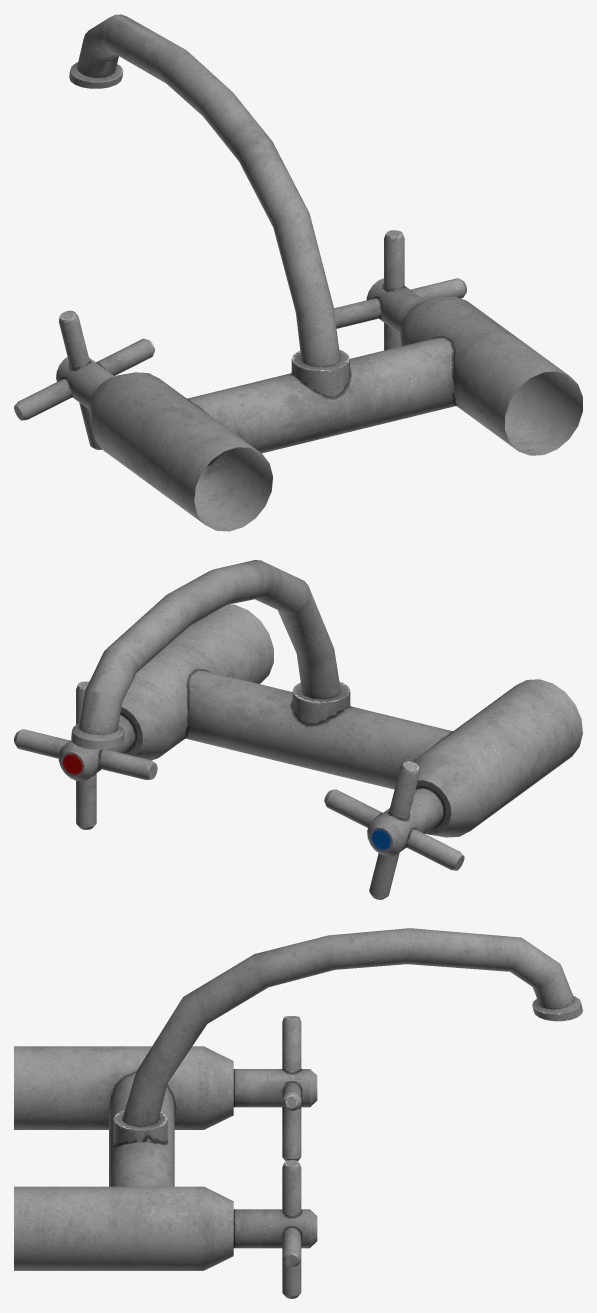
File: Tap_AA.fbx
3 views of the same model, one above another, from view 1: azimuth 30°, elevation 25°; view 2: azimuth 150°, elevation 25°; view 3: azimuth 270°, elevation 25° (orthographic). The views are drawn at different scales.
Visible parts, largest first — view 1: Tap_AA; view 2: Tap_AA; view 3: Tap_AA.
Part boxes in pixels (bbox=[...]): Tap_AA: bbox=[14, 14, 582, 531]; Tap_AA: bbox=[14, 560, 582, 899]; Tap_AA: bbox=[14, 928, 582, 1298].
Bounding box in the file's own units: 0.3981 × 0.473 × 0.2718.
Materials: 1 (1 with a texture image).
